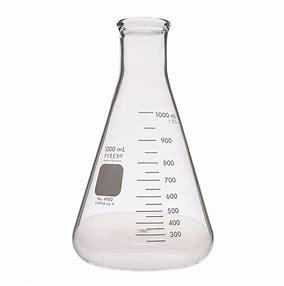Titrarion: (35, 0, 222, 272)
